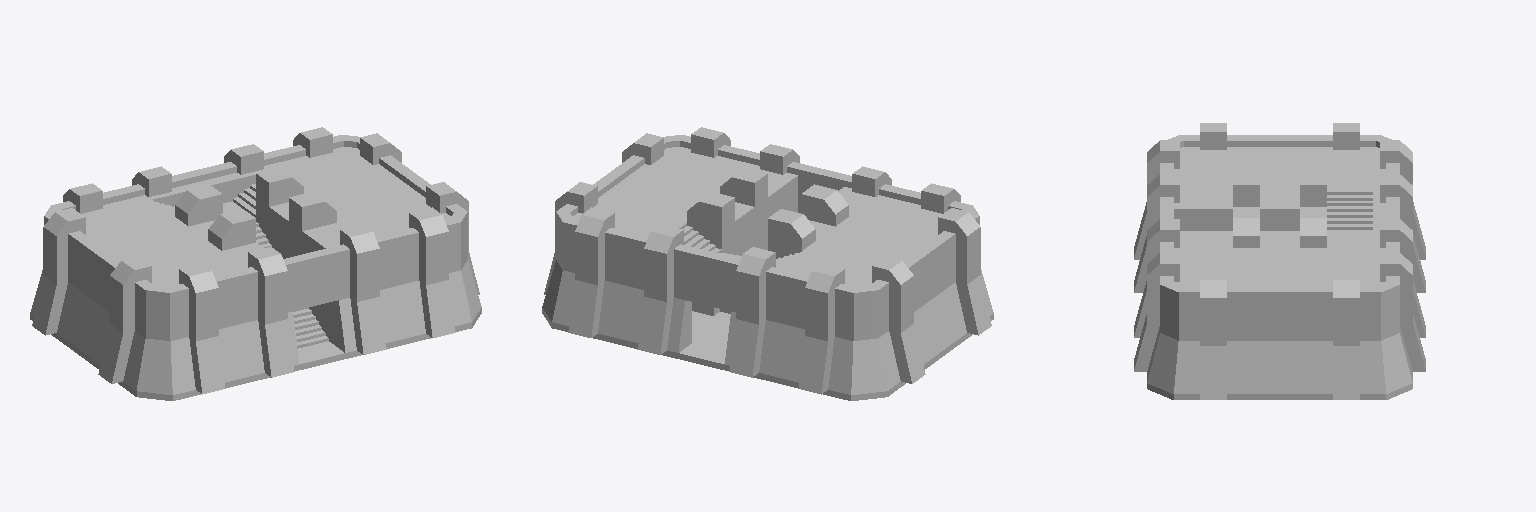
Rendered from atcs-middle.obj.
3 views of the same model, side by side, from view 1: azimuth 30°, elevation 25°; view 2: azimuth 150°, elevation 25°; view 3: azimuth 270°, elevation 25° (orthographic).
Visible parts, largest first — view 1: entity0_brush243, entity0_brush244, entity0_brush213, entity0_brush319, entity0_brush78, entity0_brush111, entity0_brush343, entity0_brush344, entity0_brush9, entity0_brush237, entity0_brush245, entity0_brush239 (+28 smaller); view 2: entity0_brush243, entity0_brush244, entity0_brush212, entity0_brush319, entity0_brush86, entity0_brush56, entity0_brush87, entity0_brush9, entity0_brush232, entity0_brush235, entity0_brush233, entity0_brush234 (+28 smaller); view 3: entity0_brush244, entity0_brush243, entity0_brush274, entity0_brush11, entity0_brush224, entity0_brush225, entity0_brush216, entity0_brush217, entity0_brush8, entity0_brush80, entity0_brush101, entity0_brush81 (+26 smaller).
Part boxes in pixels (x1,y1,x2,y2): entity0_brush243: (264,147,450,236); entity0_brush244: (82,195,244,286); entity0_brush213: (283,244,349,311); entity0_brush319: (57,282,109,364); entity0_brush78: (380,281,425,342); entity0_brush111: (219,320,264,382); entity0_brush343: (214,267,257,328); entity0_brush344: (376,228,418,289); entity0_brush9: (68,234,114,311); entity0_brush237: (419,215,448,284); entity0_brush245: (350,232,379,301); entity0_brush239: (189,271,218,340); entity0_brush243: (573,147,759,236); entity0_brush244: (779,195,941,286); entity0_brush212: (674,244,740,311); entity0_brush319: (914,282,966,364); entity0_brush86: (598,281,643,342); entity0_brush56: (759,320,804,382); entity0_brush87: (605,228,647,289); entity0_brush9: (909,234,955,311); entity0_brush232: (575,215,604,284); entity0_brush235: (644,232,673,301); entity0_brush233: (736,254,765,324); entity0_brush234: (805,271,834,340); entity0_brush244: (1174,147,1385,191); entity0_brush243: (1174,248,1385,286); entity0_brush274: (1227,341,1332,393); entity0_brush11: (1227,292,1332,340); entity0_brush224: (1333,280,1359,345); entity0_brush225: (1200,280,1226,345); entity0_brush216: (1200,346,1226,399); entity0_brush217: (1333,346,1359,399); entity0_brush8: (1227,135,1332,146); entity0_brush80: (1360,341,1385,393); entity0_brush101: (1174,341,1199,393); entity0_brush81: (1381,333,1412,393).
Size of the model in its own units: 1024 by 320 by 704.